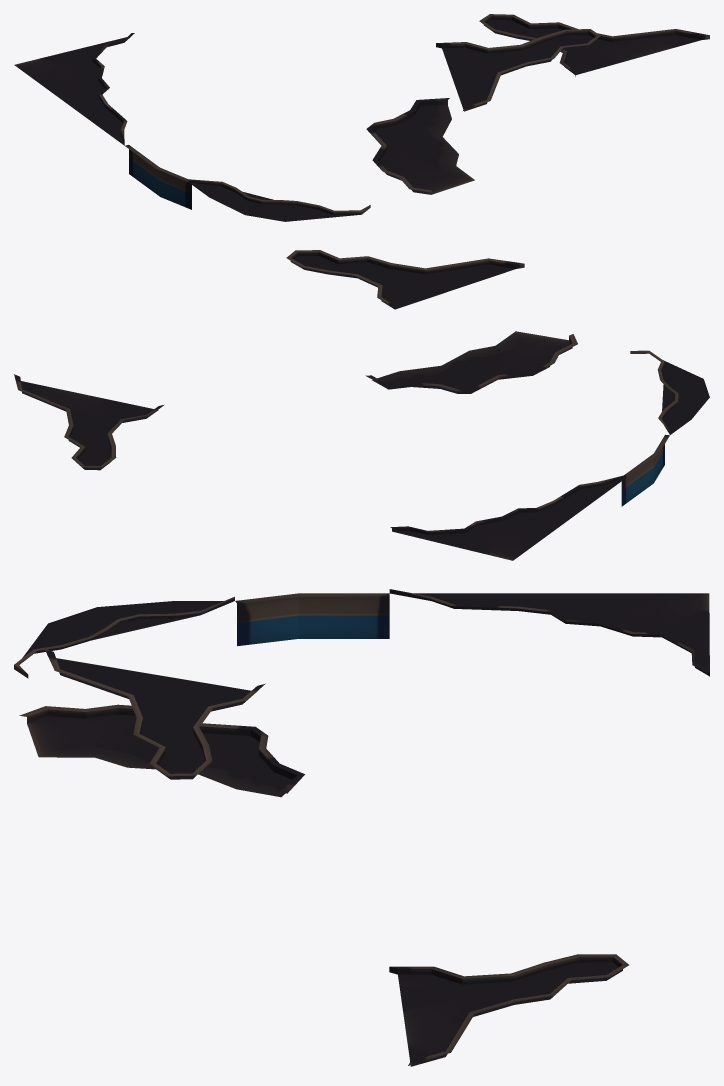
The model's file is Ground_02.FBX.
3 renders of one model, top to bottom at view 1: azimuth 30°, elevation 25°; view 2: azimuth 150°, elevation 25°; view 3: azimuth 270°, elevation 25°, orthographic. The views are drawn at different scales.
Parts seen in each view (by area): view 1: Ground_02; view 2: Ground_02; view 3: Ground_02.
Boxes of the visible parts, bbox=[...] form: Ground_02: bbox=[14, 14, 709, 221]; Ground_02: bbox=[14, 250, 709, 560]; Ground_02: bbox=[14, 589, 709, 1066].
Size of the model in its own units: 40.36 by 7.23 by 28.44.
